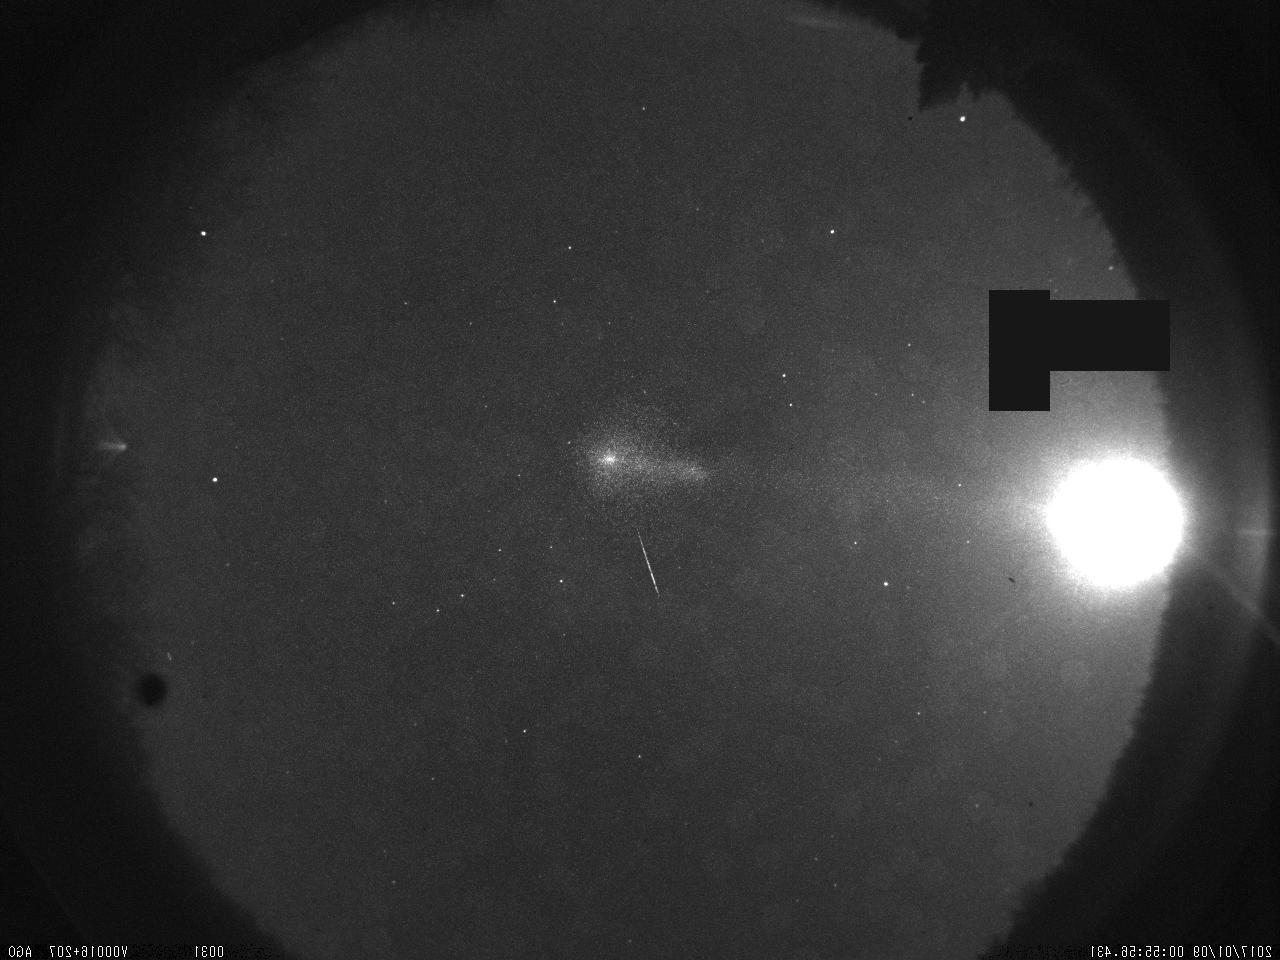meteor: (626, 532, 676, 603)
